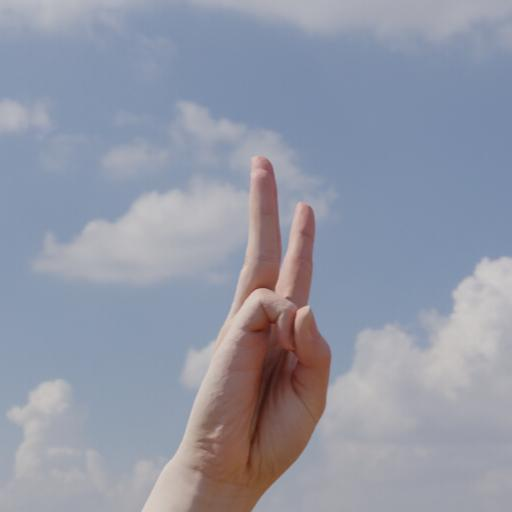W: (167, 142, 352, 492)
